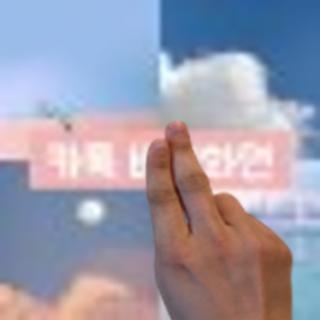DHAVE: (132, 114, 298, 320)
